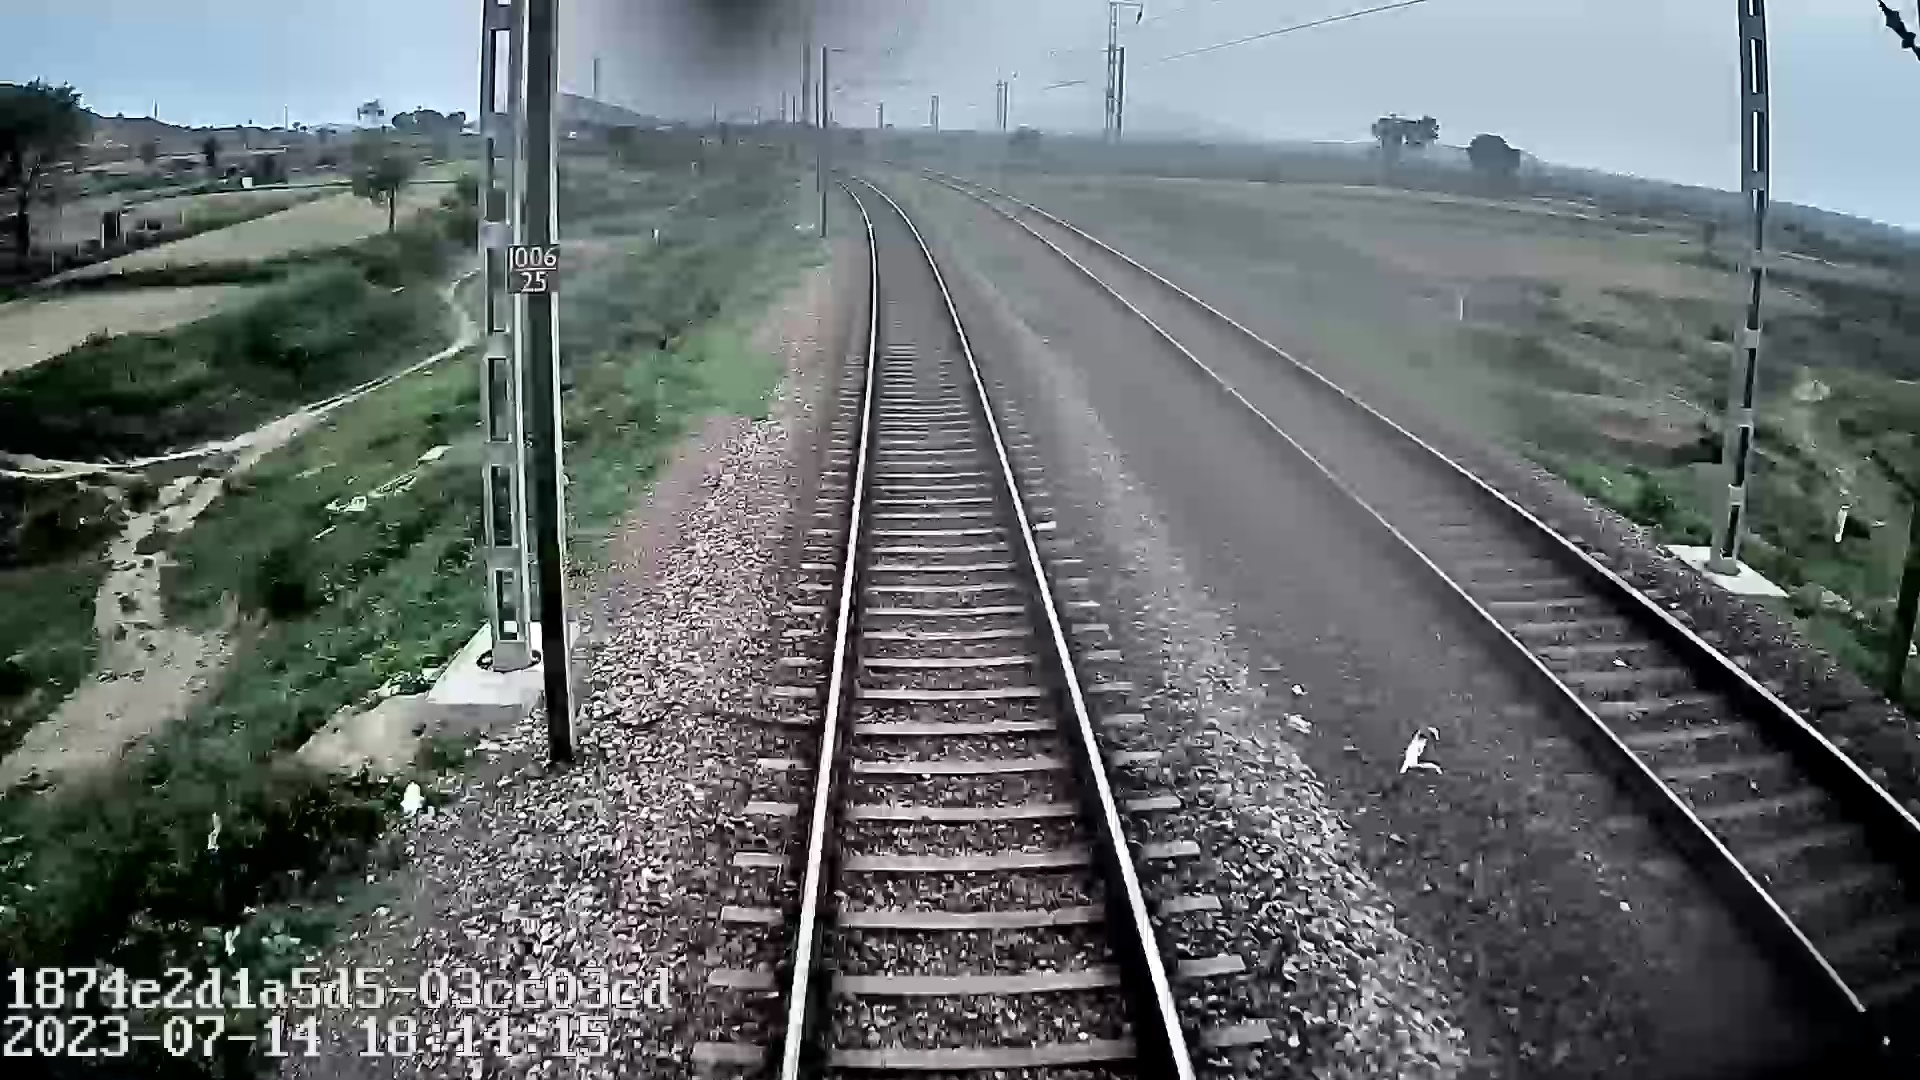track1: (791, 178, 1186, 1072)
track2: (958, 182, 1917, 1006)
